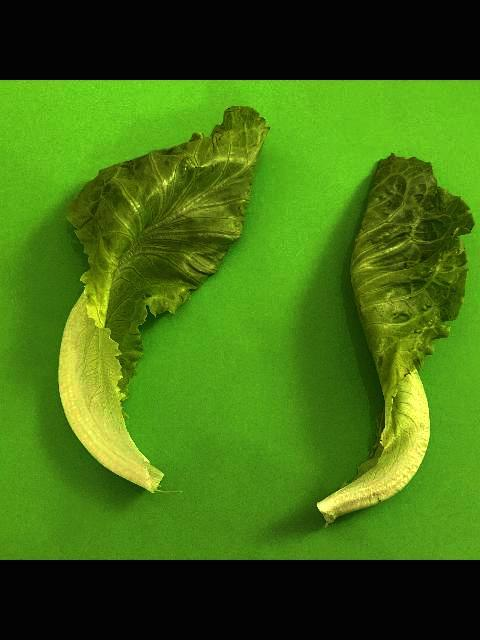lettuce: (55, 104, 275, 496), (312, 152, 476, 532)
